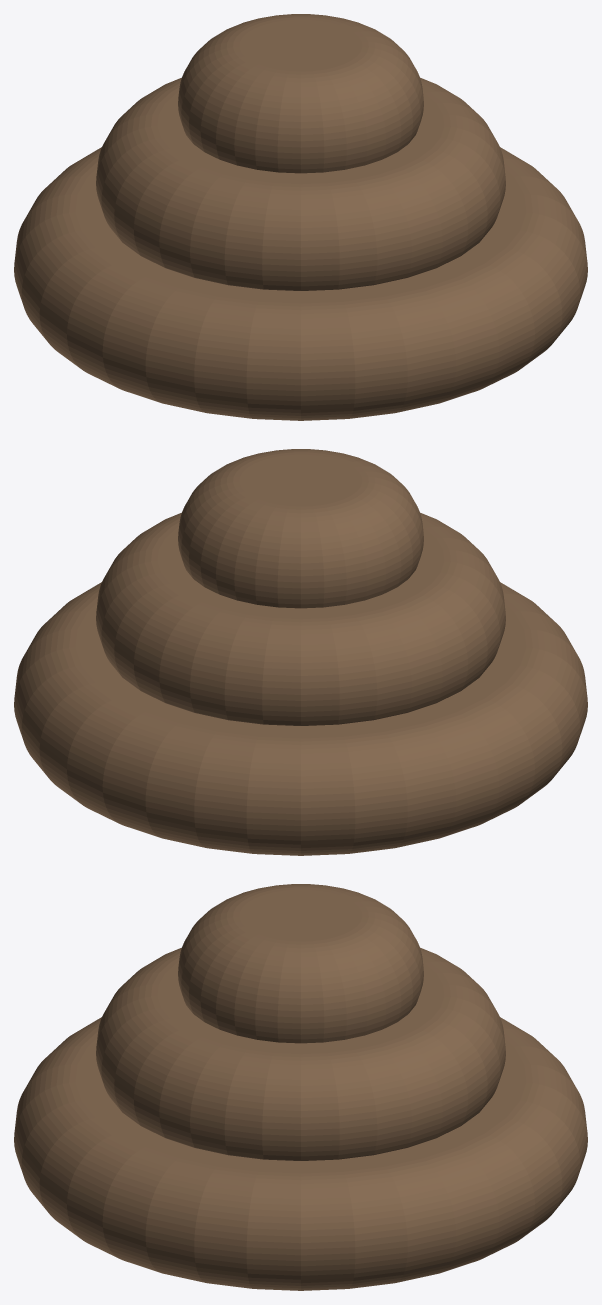
File: stront.fbx
3 renders of one model, top to bottom at view 1: azimuth 30°, elevation 25°; view 2: azimuth 150°, elevation 25°; view 3: azimuth 270°, elevation 25°, orthographic.
Parts seen in each view (by area): view 1: Cylinder, Cylinder_1, Cylinder_2; view 2: Cylinder, Cylinder_1, Cylinder_2; view 3: Cylinder, Cylinder_1, Cylinder_2.
Part boxes in pixels (x1,y1,x2,y2): Cylinder: (14, 147, 587, 420); Cylinder_1: (96, 77, 505, 290); Cylinder_2: (178, 14, 423, 173); Cylinder: (14, 582, 587, 855); Cylinder_1: (96, 512, 505, 725); Cylinder_2: (178, 449, 423, 608); Cylinder: (14, 1017, 587, 1290); Cylinder_1: (96, 947, 505, 1160); Cylinder_2: (178, 884, 423, 1043).
Bounding box in the file's own units: 41.9 × 22.11 × 41.95.
